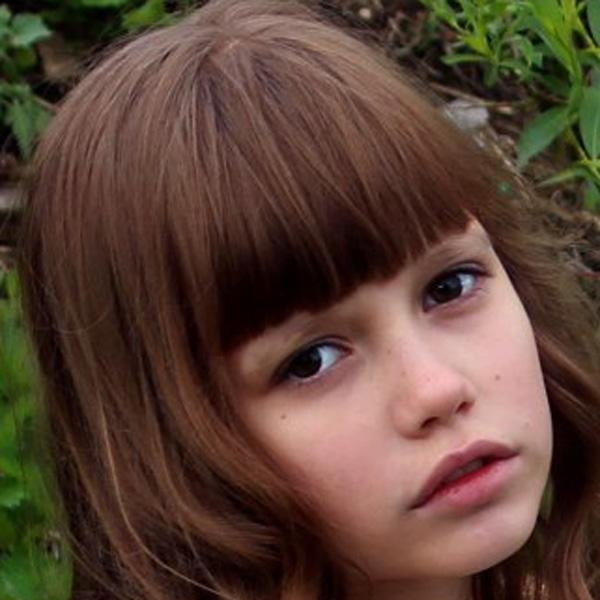Eyes: (264, 323, 364, 401), (412, 251, 495, 325)
